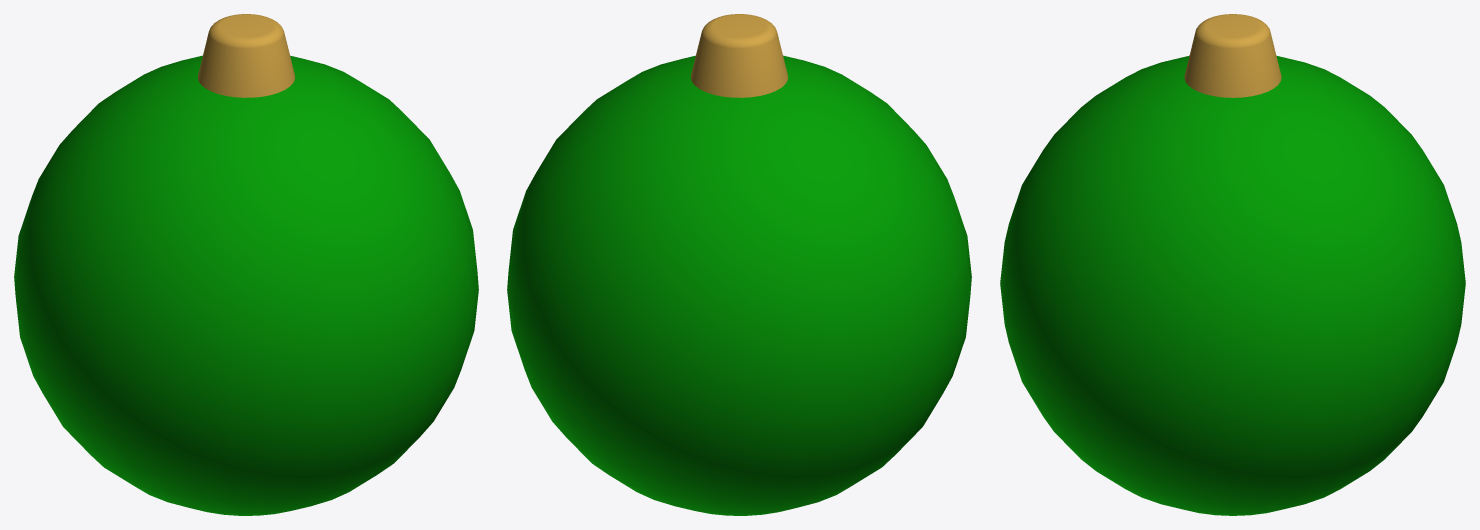
The model's file is ornament_green.gltf.
The picture shows the model from 3 angles, left to right: view 1: azimuth 30°, elevation 25°; view 2: azimuth 150°, elevation 25°; view 3: azimuth 270°, elevation 25°; orthographic projection.
Parts seen in each view (by area): view 1: ornament_green; view 2: ornament_green; view 3: ornament_green.
Part boxes in pixels (x1,y1,x2,y2): ornament_green: [14, 14, 478, 515]; ornament_green: [507, 14, 971, 515]; ornament_green: [1000, 14, 1465, 515].
Bounding box in the file's own units: 2 × 2.22 × 2.
